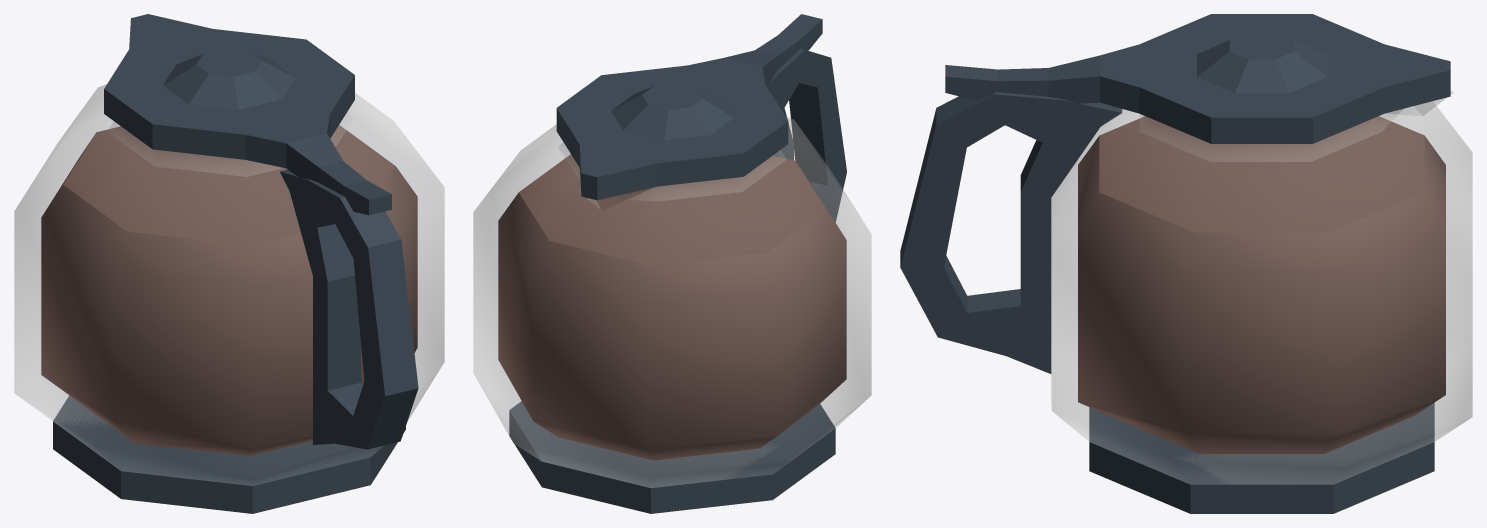
Rendered from CoffeePot.FBX.
3 renders of one model, left to right at view 1: azimuth 30°, elevation 25°; view 2: azimuth 150°, elevation 25°; view 3: azimuth 270°, elevation 25°, orthographic. The views are drawn at different scales.
Parts seen in each view (by area): view 1: CoffeePot, Object001; view 2: CoffeePot, Object001; view 3: CoffeePot, Object001.
Boxes of the visible parts, left/top/right/bottom form: CoffeePot: left=41, top=14, right=418, bottom=513; Object001: left=14, top=84, right=444, bottom=485; CoffeePot: left=498, top=14, right=846, bottom=513; Object001: left=473, top=117, right=871, bottom=487; CoffeePot: left=900, top=14, right=1450, bottom=513; Object001: left=1051, top=91, right=1472, bottom=484.
Size of the model in its own units: 26.28 by 27.22 by 35.71.
